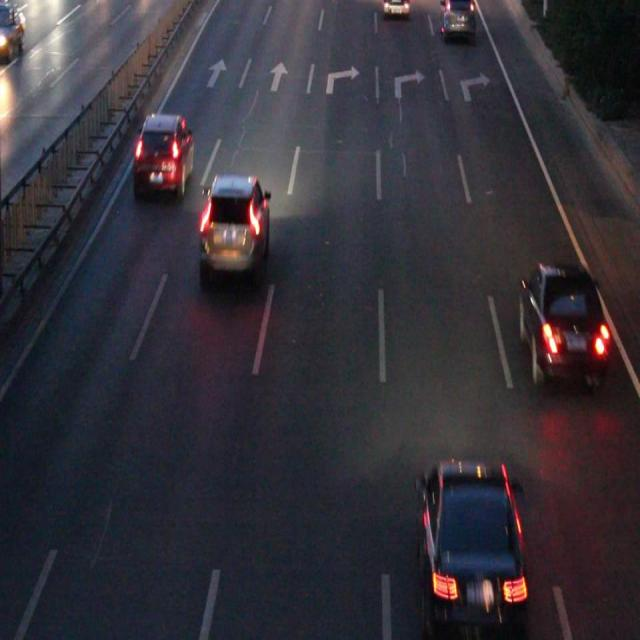car: (418, 462, 525, 618), (520, 264, 607, 375), (201, 178, 268, 271), (134, 114, 193, 190), (441, 2, 473, 34), (383, 1, 408, 17)
